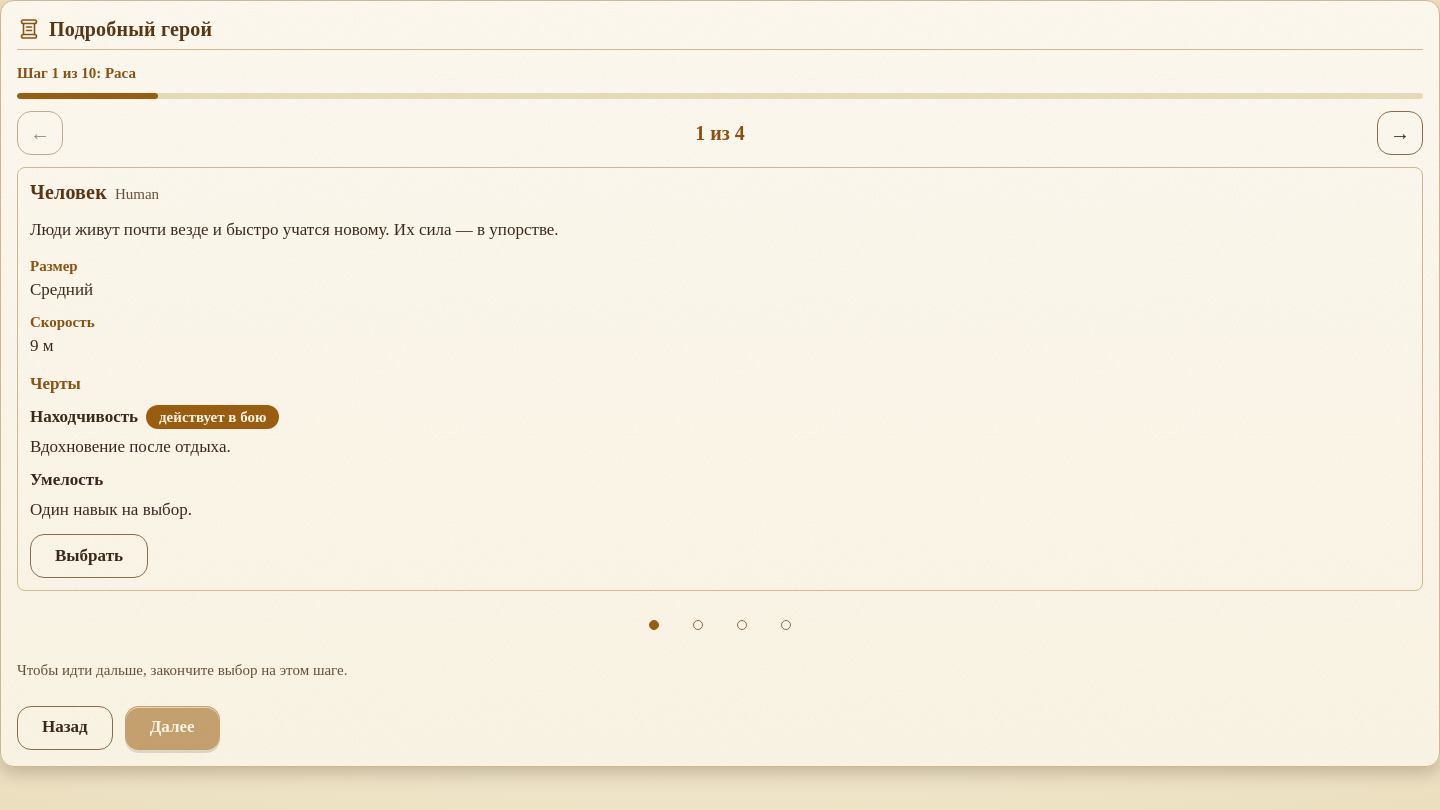
Test: путь по шагам › выбор расы из карусели: «Выбрать» отмечает показанную карточку
Click the button named "Следующая": (1400, 132) [1377, 110, 1423, 154]
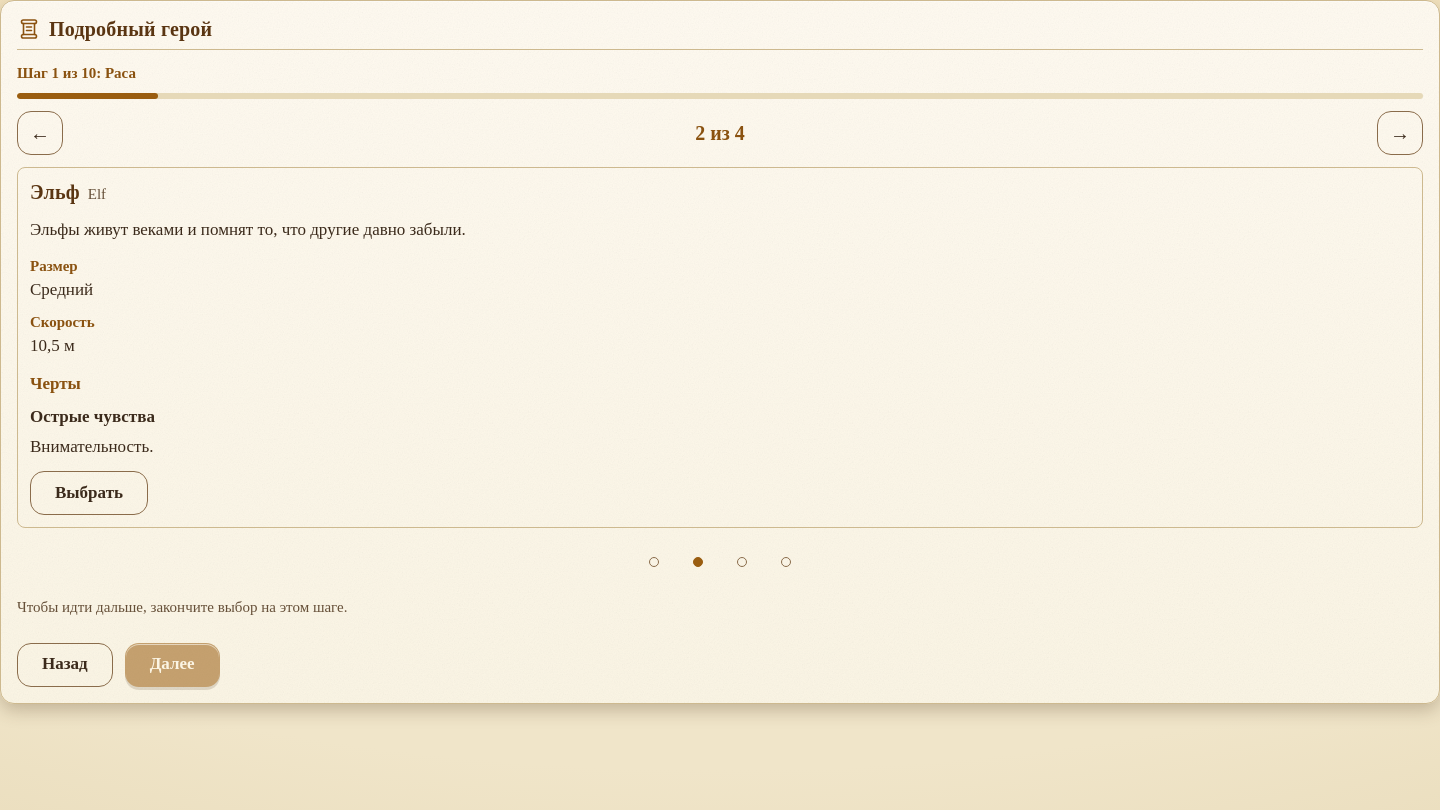
Click the button named "Следующая": (1400, 132) [1377, 110, 1423, 154]
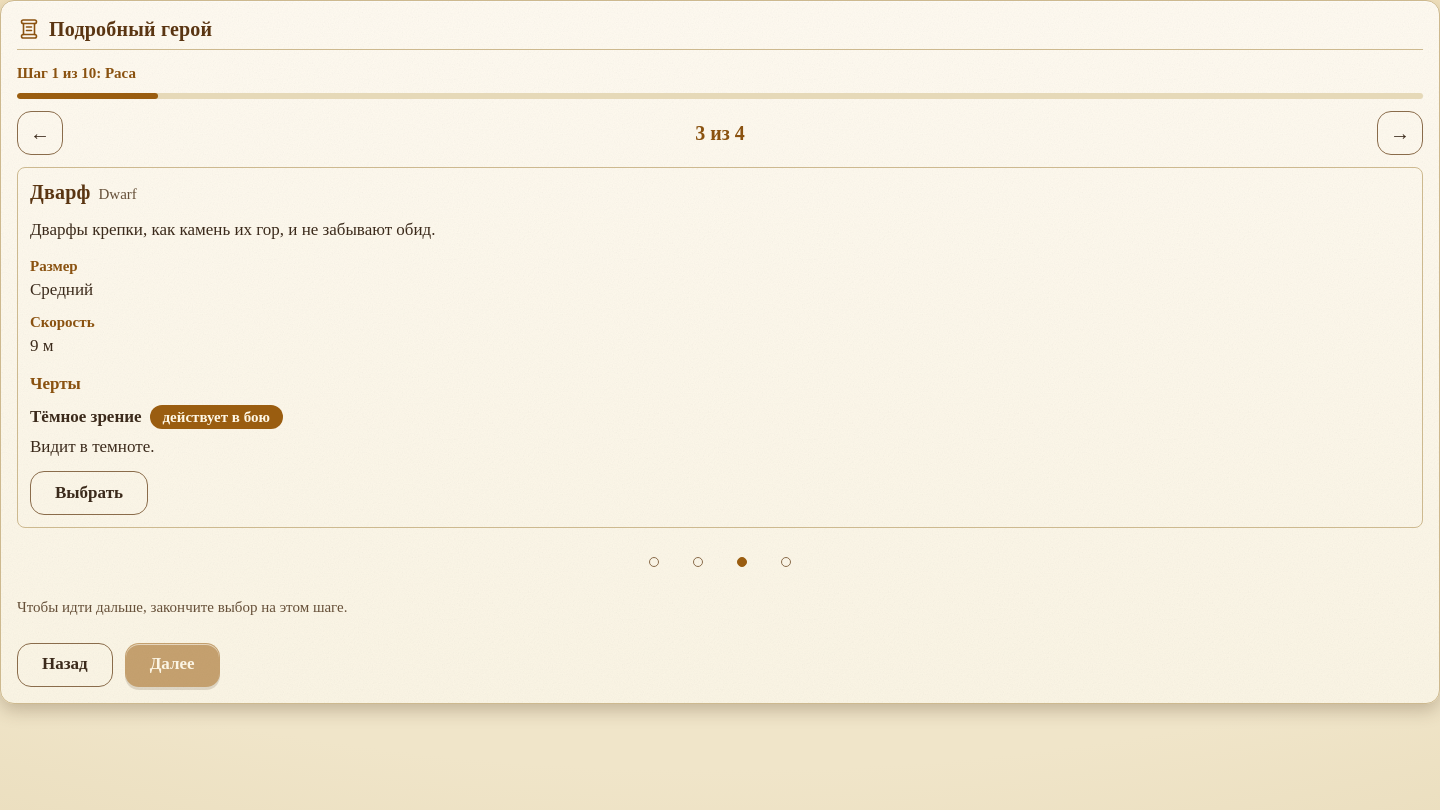
Click the button "Выбрать": (89, 493) [30, 471, 148, 515]
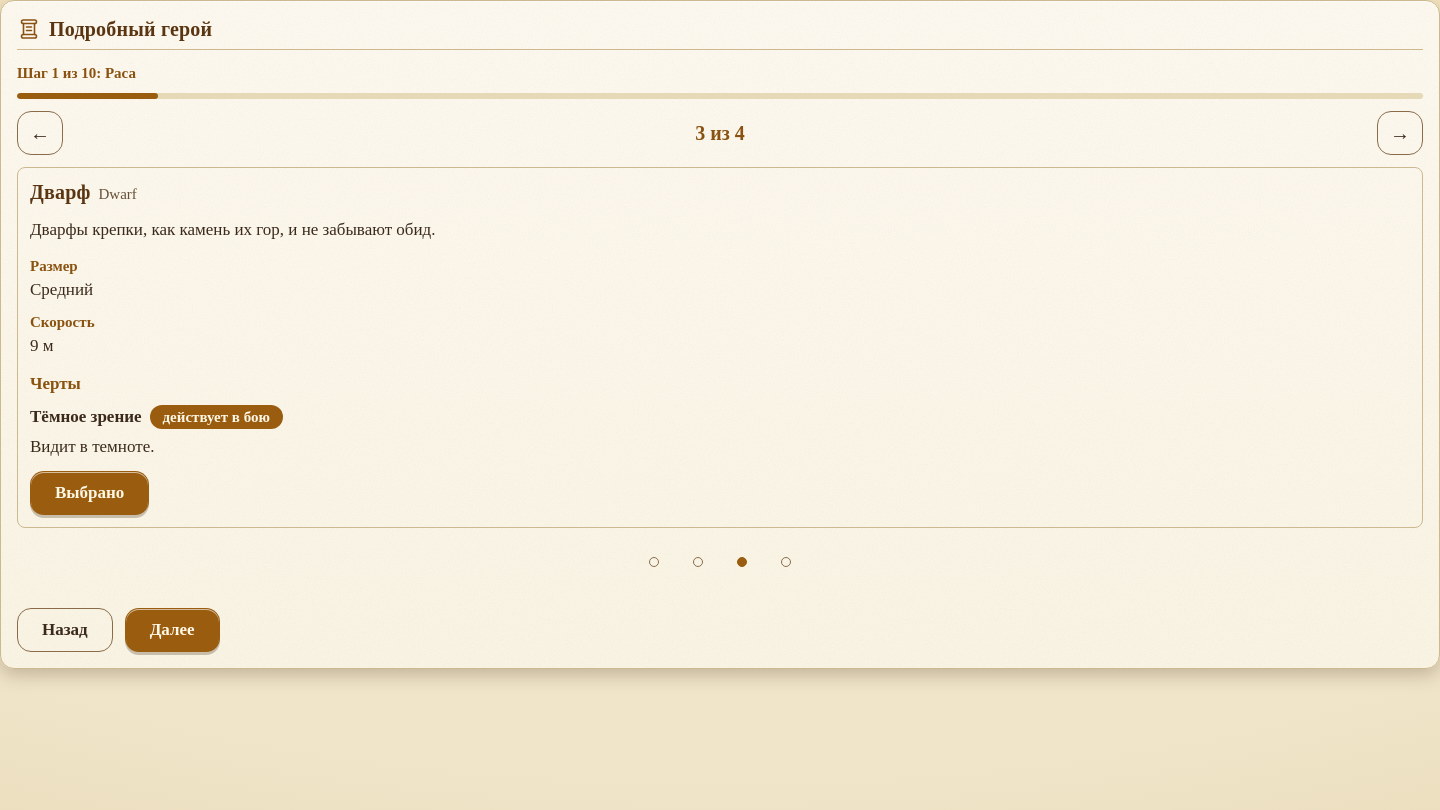
Now the button "Далее" is enabled, box [125, 608, 220, 652]
